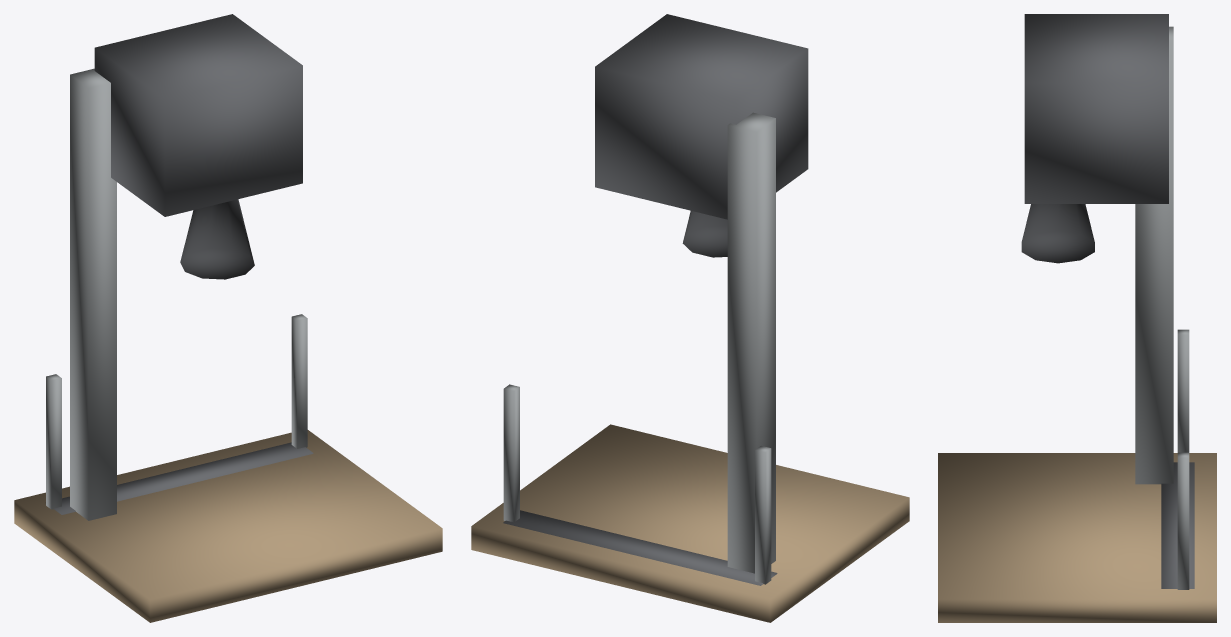
Rendered from photo_enlarger__reinforced.glb.
3 views of the same model, side by side, from view 1: azimuth 30°, elevation 25°; view 2: azimuth 150°, elevation 25°; view 3: azimuth 270°, elevation 25° (orthographic). The views are drawn at different scales.
Visible parts, largest first — view 1: world; view 2: world; view 3: world.
Boxes of the visible parts, x1,y1,x2,y2 form: world: (14, 14, 442, 622); world: (471, 14, 909, 622); world: (938, 14, 1216, 622).
Size of the model in its own units: 0.7416 by 1.16 by 0.5974.
